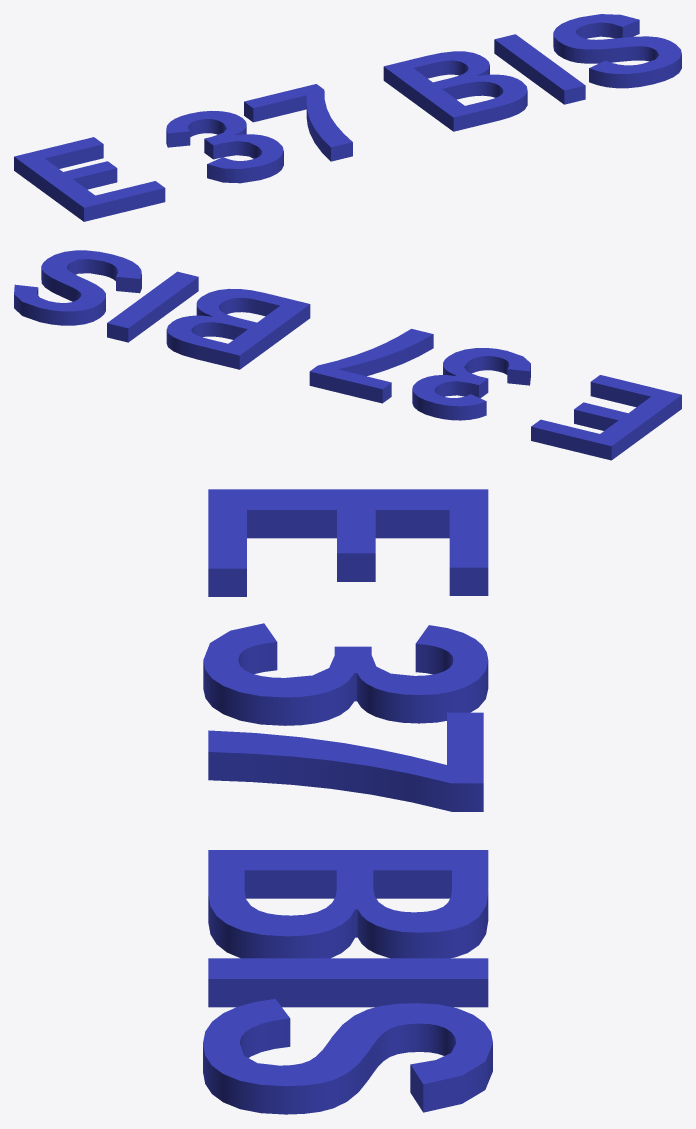
The model's file is e37bis.fbx.
3 renders of one model, top to bottom at view 1: azimuth 30°, elevation 25°; view 2: azimuth 150°, elevation 25°; view 3: azimuth 270°, elevation 25°, orthographic. The views are drawn at different scales.
Visible parts, largest first — view 1: node_id291; view 2: node_id291; view 3: node_id291.
Part boxes in pixels (x1,y1,x2,y2): node_id291: (14, 14, 681, 221); node_id291: (14, 250, 681, 460); node_id291: (203, 489, 492, 1114).
Bounding box in the file's own units: 0.8457 × 0.0188 × 0.1738.
